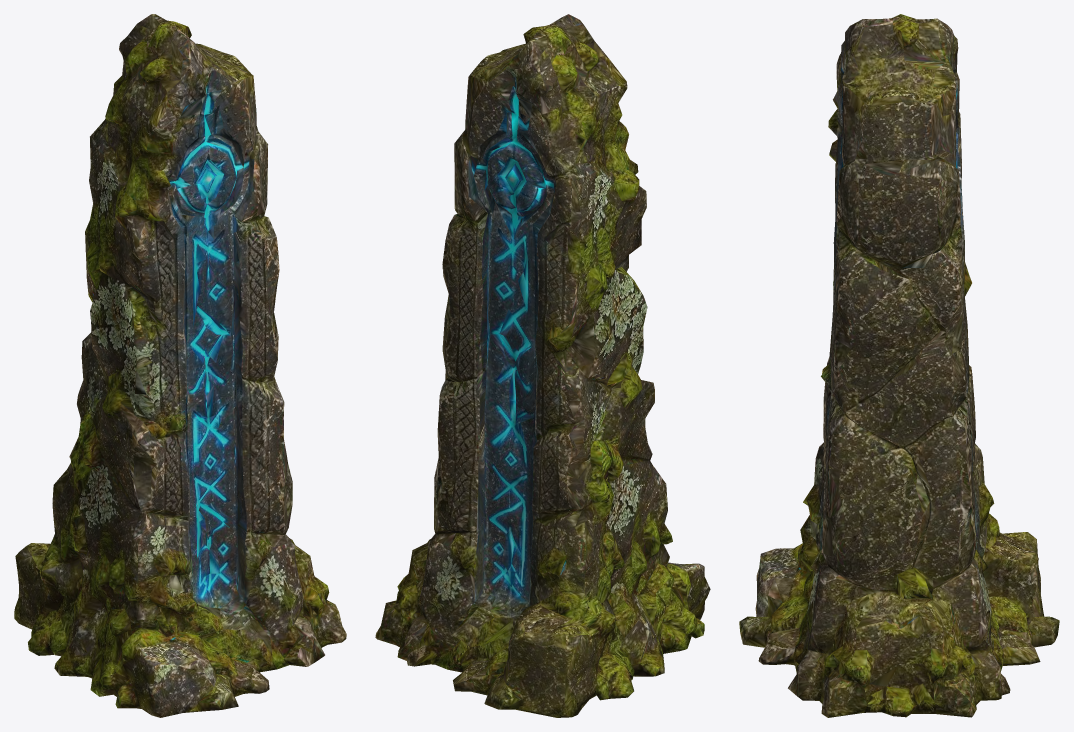
File: runa.glb
3 views of the same model, side by side, from view 1: azimuth 30°, elevation 25°; view 2: azimuth 150°, elevation 25°; view 3: azimuth 270°, elevation 25° (orthographic).
Parts seen in each view (by area): view 1: runa; view 2: runa; view 3: runa.
Part boxes in pixels (x1,y1,x2,y2): runa: (14, 14, 346, 717); runa: (375, 14, 710, 717); runa: (739, 14, 1059, 717).
Bounding box in the file's own units: 0.9425 × 2.2 × 1.01.
1 material, 1 textured.
